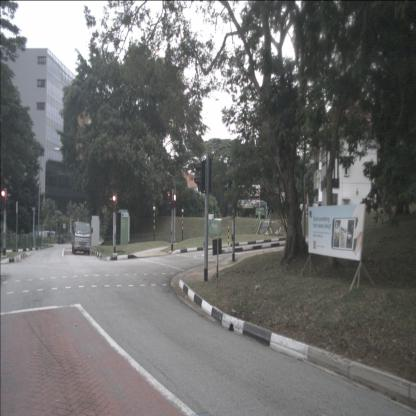vehicle-bicycle: (264, 225, 273, 237), (274, 226, 284, 236)
vehicle-car: (72, 221, 92, 255), (255, 201, 268, 219), (41, 231, 55, 244)
vehicle-motorcycle: (58, 235, 63, 244)
